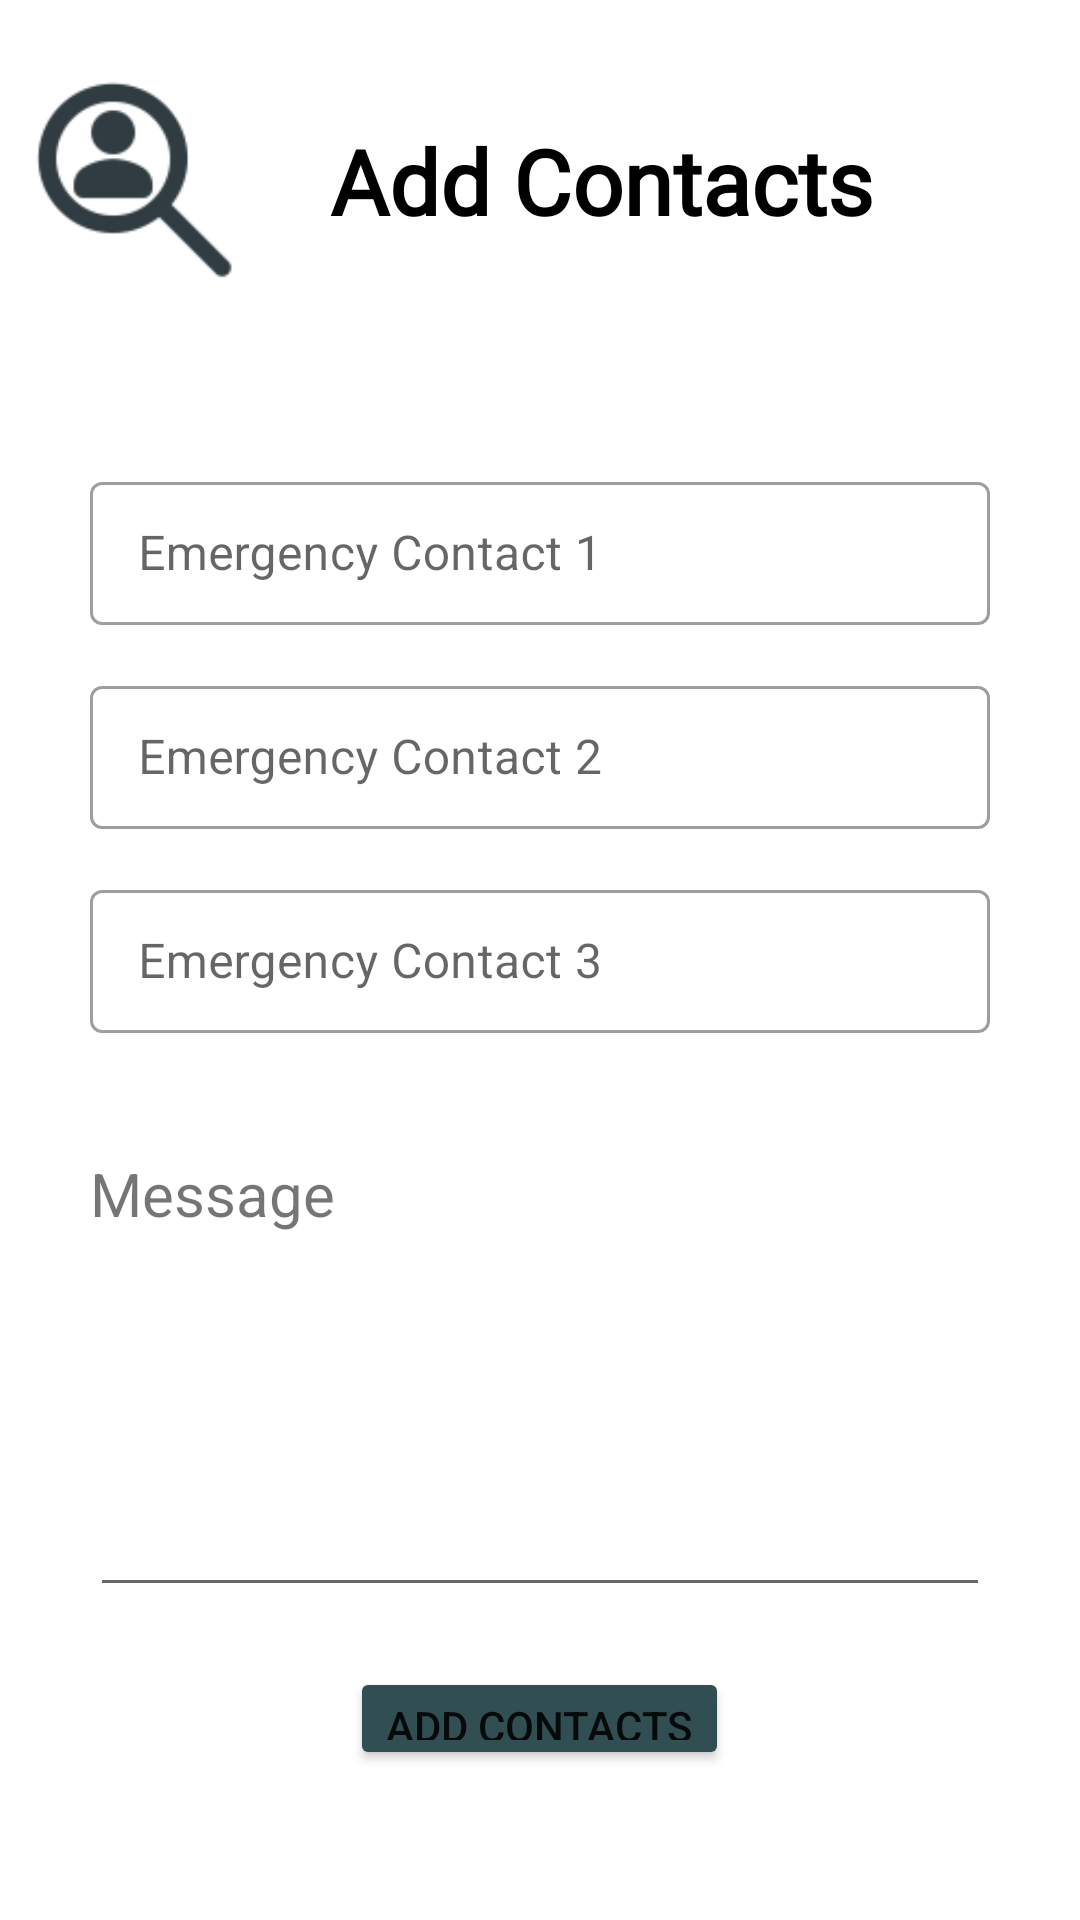

Point at icon controls on the screen. Image size 1080w x 1920h, points as (x=x, y=y).
search: (x=134, y=180)
